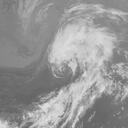cyclone: (47, 22, 115, 77)
